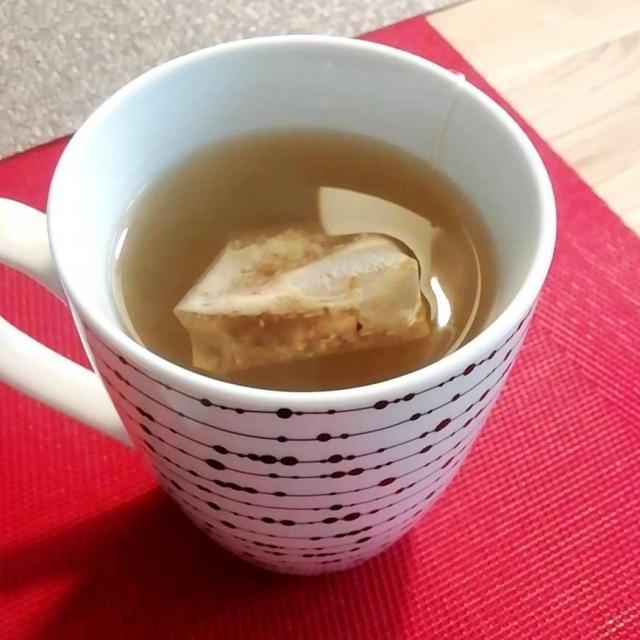tea: (123, 133, 495, 384)
